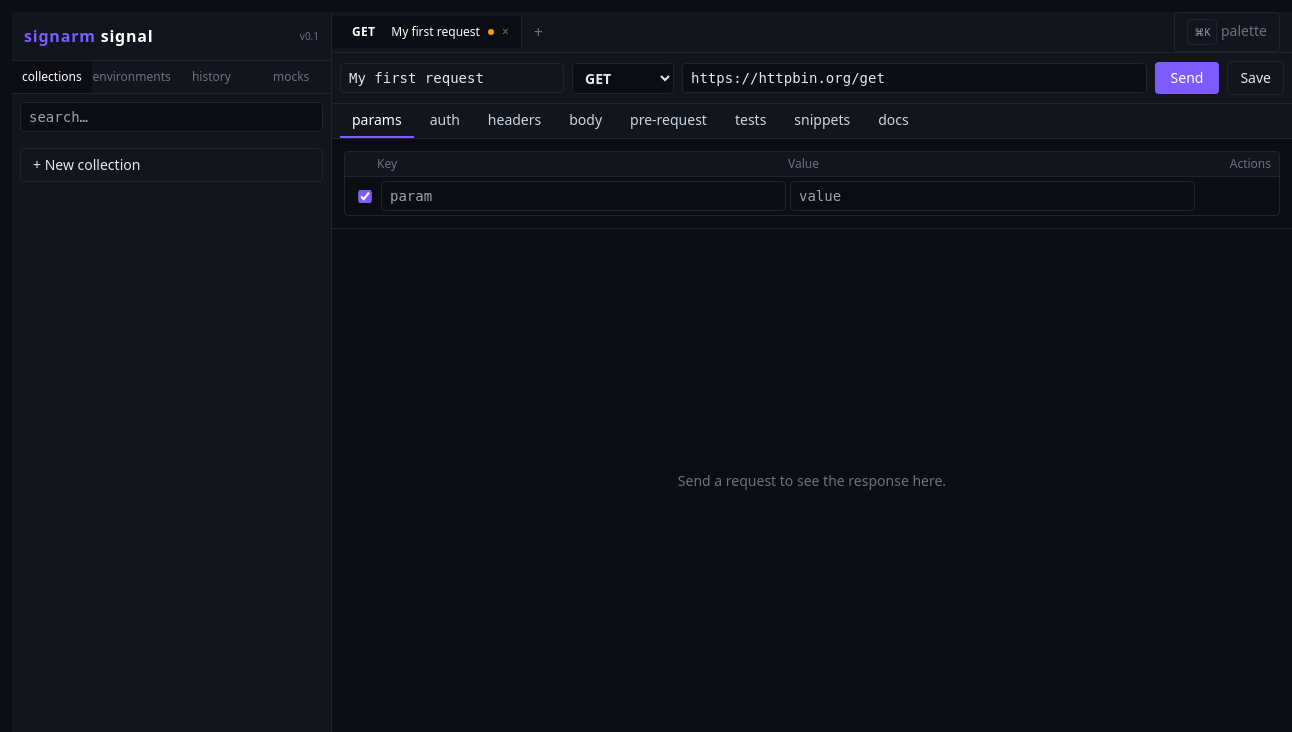
Scenario: request tabs › tests tab has a textarea for assertions
The width and height of the screenshot is (1292, 732).
Expected: the button "Send" is shown, [1155,62,1220,94]
Click the button "tests". click: (751, 121)
box: [723,104,778,138]
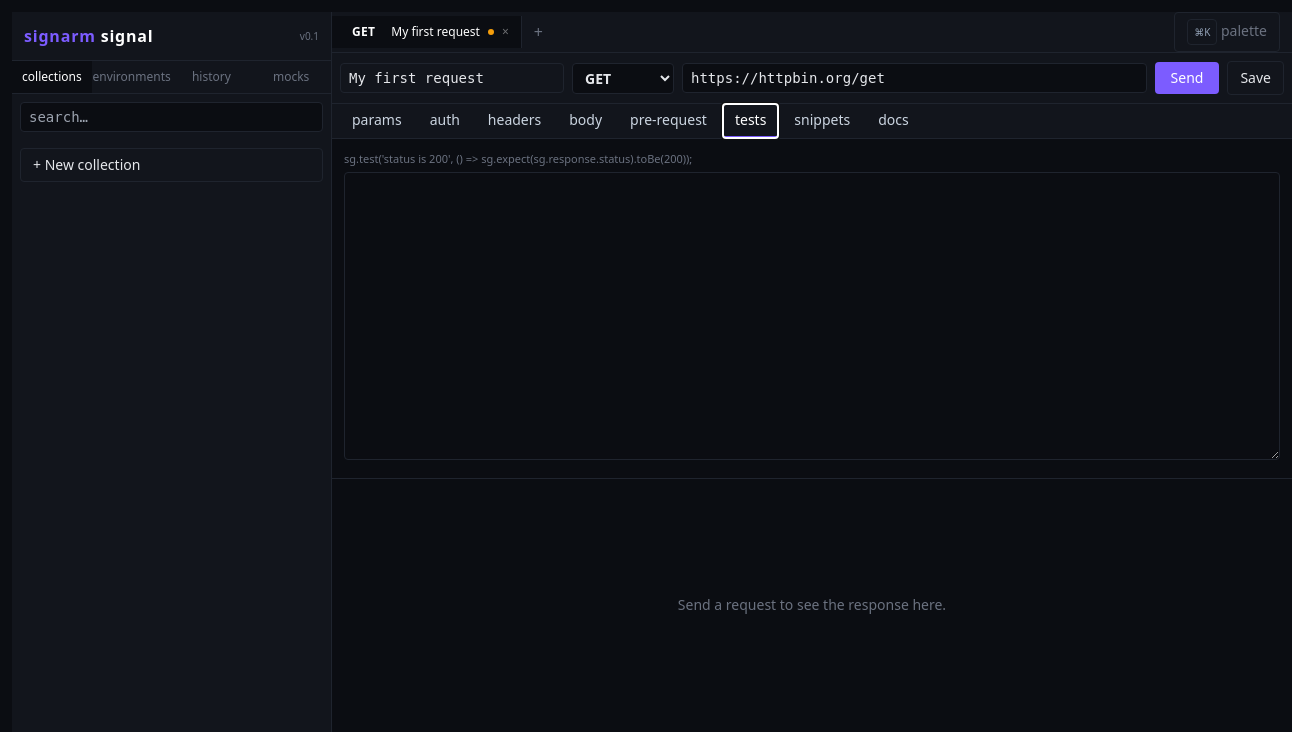
Expected: the text box is shown, [344,172,1280,460]
